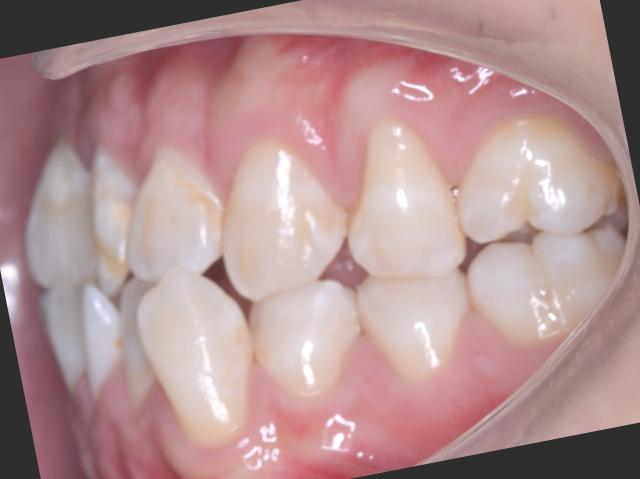canine class III 1/4: (105, 111, 392, 472)
molar class II 3/4: (433, 90, 640, 363)
